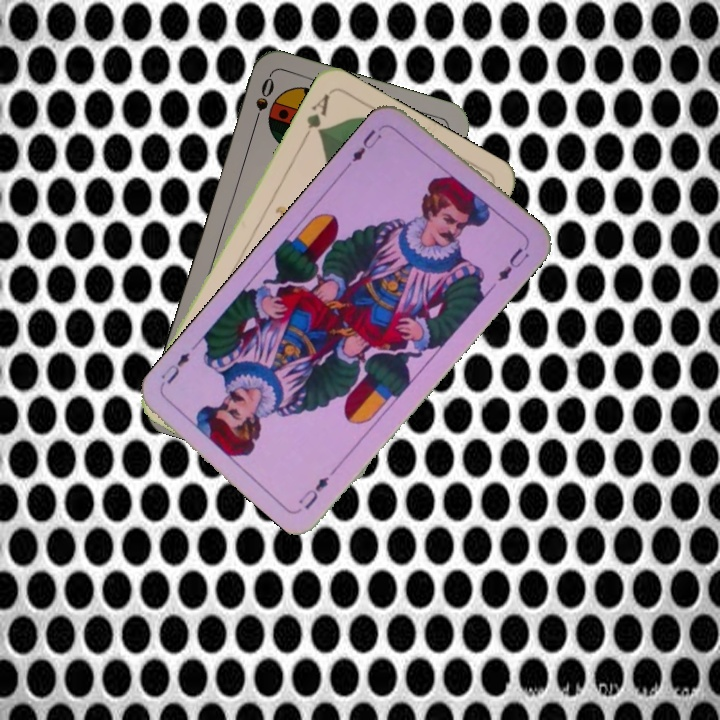EU: (347, 121, 388, 165), (294, 472, 332, 512)
GA: (298, 89, 332, 145)
SO: (249, 73, 277, 131)
